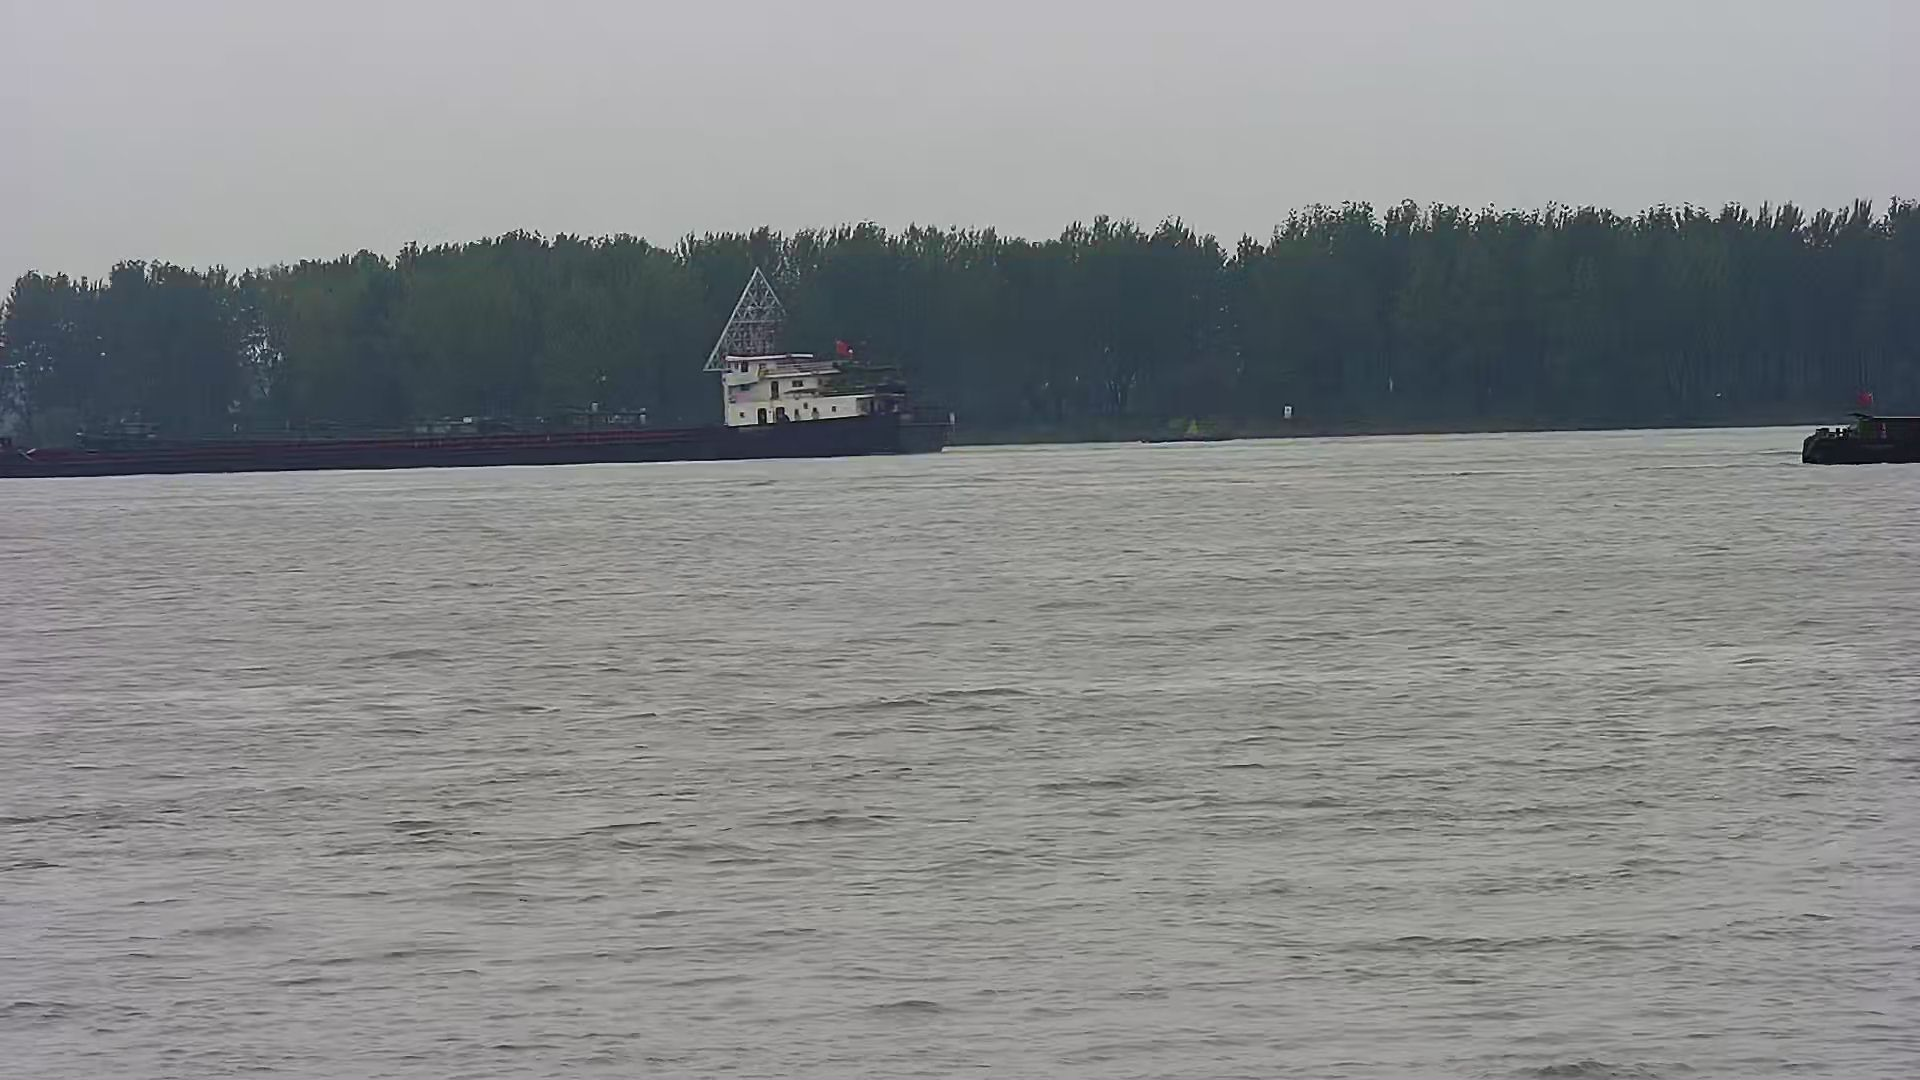ship: (1, 335, 964, 476), (1803, 385, 1920, 467), (1139, 413, 1232, 444)
